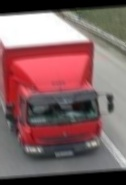truck: (0, 6, 117, 161)
